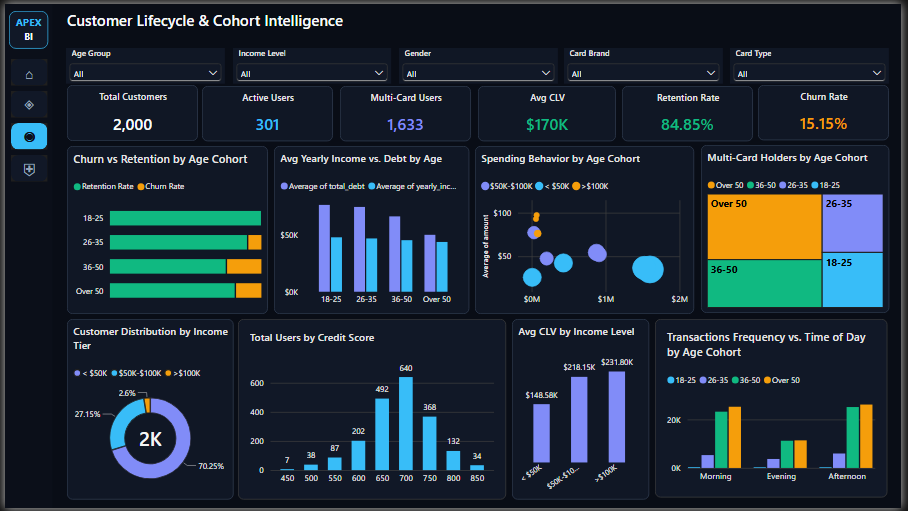

This screenshot's page, from the dashboard's own definition file:
{"tool":"powerbi","page":{"name":"Customer Lifecycle","canvas":[1280,720],"ordinal":2},"visuals":[{"type":"textbox","box":[0,0,68,720],"z":0},{"type":"textbox","box":[6,10,56,54],"z":1000},{"type":"actionButton","box":[8,78,52,38],"z":2000},{"type":"actionButton","box":[8,124,52,38],"z":3000},{"type":"actionButton","box":[8,170,52,38],"z":4000},{"type":"actionButton","box":[8,216,52,38],"z":5000},{"type":"textbox","box":[88,8,880,34],"z":6000},{"type":"slicer","fields":{"Values":["users_data.Age Group"]},"box":[87.7,62.5,227.3,50.5],"z":7000},{"type":"slicer","fields":{"Values":["users_data.Income Level"]},"box":[325.6,62.5,226,50.5],"z":8000},{"type":"slicer","fields":{"Values":["users_data.gender"]},"box":[562.2,62.5,227.3,50.5],"z":9000},{"type":"slicer","fields":{"Values":["cards_data.card_brand"]},"box":[798.8,62.5,227.3,50.5],"z":10000},{"type":"slicer","fields":{"Values":["cards_data.card_type"]},"box":[1035.4,62.5,227.3,50.5],"z":11000},{"type":"card","title":"Total Customers","fields":{"Values":["users_data.Total Users"]},"box":[88,116.4,187,80],"z":12000},{"type":"card","title":"Active Users","fields":{"Values":["transactions_data.Active Users"]},"box":[282.1,116.9,187.1,79.4],"z":13000},{"type":"card","title":"Multi-Card Users","fields":{"Values":["users_data.Multi-Card Users"]},"box":[479.1,116.9,187.1,79.4],"z":14000},{"type":"card","title":"Avg CLV","fields":{"Values":["users_data.Avg CLV"]},"box":[676.1,116.9,197,79.4],"z":15000},{"type":"card","title":"Retention Rate","fields":{"Values":["users_data.Retention Rate"]},"box":[881.6,116.9,187.1,79.4],"z":16000},{"type":"card","title":"Churn Rate","fields":{"Values":["users_data.Churn Rate"]},"box":[1075.3,116.4,187.1,79.4],"z":17000},{"type":"hundredPercentStackedBarChart","title":"Churn vs Retention by Age Cohort","fields":{"Category":["users_data.Age Group"],"Y":["users_data.Retention Rate","users_data.Churn Rate"]},"box":[87.9,202.3,287.4,239.5],"z":18000},{"type":"scatterChart","title":"Spending Behavior by Age Cohort","fields":{"Category":["users_data.Age Group"],"Series":["users_data.Income Level"],"Size":["users_data.Total Users"],"X":["transactions_data.Audited Volume"],"Y":["transactions_data.amount"]},"box":[671.3,202.8,313.2,239.5],"z":19000},{"type":"donutChart","title":"Customer Distribution by Income Tier","fields":{"Category":["users_data.Income Level"],"Y":["users_data.Total Users"]},"box":[87.9,449.9,238.1,258],"z":20000},{"type":"clusteredColumnChart","title":"Transactions Frequency vs. Time of Day by Age Cohort","fields":{"Category":["transactions_data.Time of Day"],"Series":["users_data.Age Group"],"Y":["transactions_data.Total Transactions"]},"box":[928.3,449.9,331.7,255.1],"z":21000},{"type":"clusteredColumnChart","title":"Avg Yearly Income vs. Debt by Age","fields":{"Category":["users_data.Age Group"],"Y":["Avg(users_data.total_debt)","Avg(users_data.yearly_income)"]},"box":[384.2,202.8,279.2,239.5],"z":22000},{"type":"treemap","title":"Multi-Card Holders by Age Cohort","fields":{"Group":["users_data.Age Group"],"Values":["users_data.Total Users"]},"box":[993.6,201.4,269.3,239.5],"z":23000},{"type":"clusteredColumnChart","fields":{"Category":["users_data.Income Level"],"Y":["users_data.Avg CLV"]},"box":[724.3,449.9,195.6,258],"z":24000},{"type":"clusteredColumnChart","title":"Total Users by Credit Score","fields":{"Category":["users_data.credit_score (bins)"],"Y":["users_data.Total Users"]},"box":[333.1,449.9,382.7,258],"z":25000}]}

Visuals, with their boxes in screenshot pixels (x1, y1, x2, y2), scaled from the page's 1280x720 canvas onto the 908x511 screenshot:
textbox: (0,0,48,510)
textbox: (4,7,44,45)
actionButton: (6,55,43,82)
actionButton: (6,88,43,115)
actionButton: (6,121,43,148)
actionButton: (6,153,43,180)
textbox: (62,6,687,30)
slicer - users_data.Age Group: (62,44,223,80)
slicer - users_data.Income Level: (231,44,391,80)
slicer - users_data.gender: (399,44,560,80)
slicer - cards_data.card_brand: (567,44,728,80)
slicer - cards_data.card_type: (734,44,896,80)
"Total Customers" card: (62,83,195,139)
"Active Users" card: (200,83,333,139)
"Multi-Card Users" card: (340,83,473,139)
"Avg CLV" card: (480,83,619,139)
"Retention Rate" card: (625,83,758,139)
"Churn Rate" card: (763,83,896,139)
"Churn vs Retention by Age Cohort" hundredPercentStackedBarChart: (62,144,266,314)
"Spending Behavior by Age Cohort" scatterChart: (476,144,698,314)
"Customer Distribution by Income Tier" donutChart: (62,319,231,502)
"Transactions Frequency vs. Time of Day by Age Cohort" clusteredColumnChart: (659,319,894,500)
"Avg Yearly Income vs. Debt by Age" clusteredColumnChart: (273,144,471,314)
"Multi-Card Holders by Age Cohort" treemap: (705,143,896,313)
clusteredColumnChart - users_data.Income Level x users_data.Avg CLV: (514,319,653,502)
"Total Users by Credit Score" clusteredColumnChart: (236,319,508,502)
